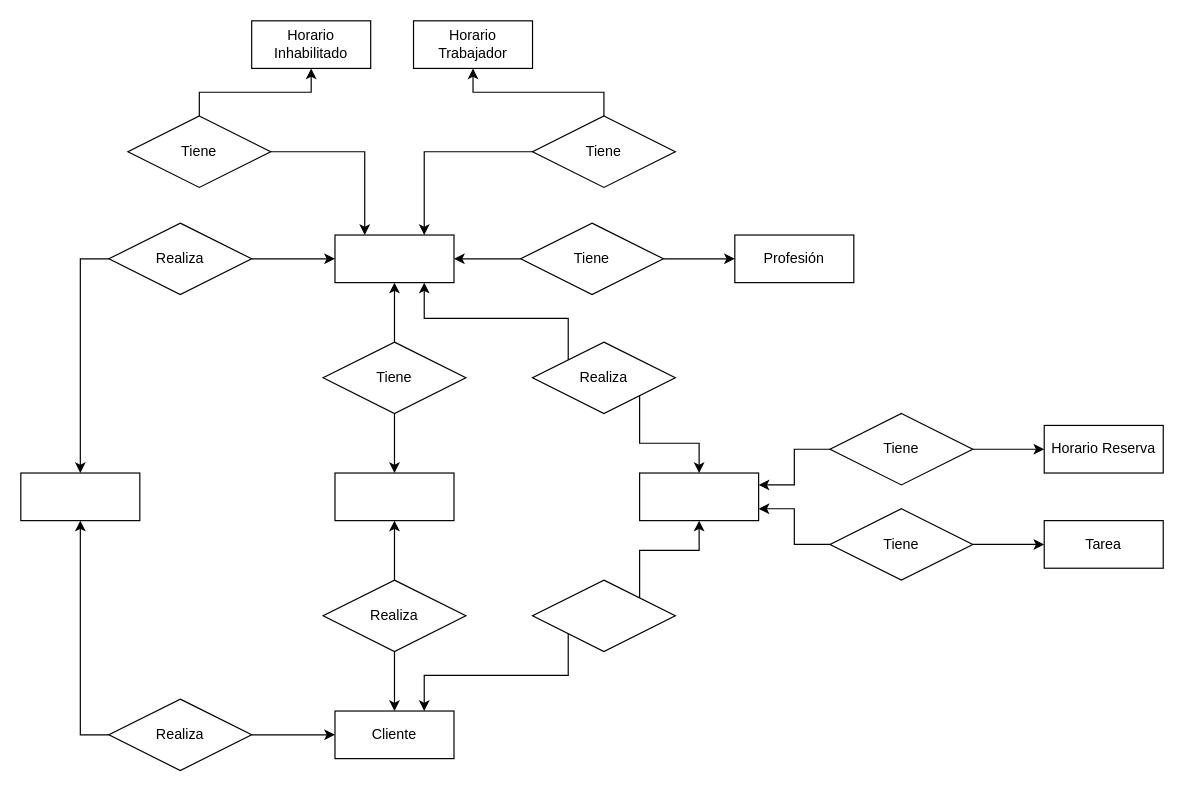
Image size: 1184x791. Some labels were removed from this diagram. The centre of each missing label's shape, as x and y in pixels:
Pertenece: the point at 603,615
Reserva: the point at 698,496
Solicitud: the point at 394,496
Trabajador: the point at 394,258
Valoración: the point at 80,496
